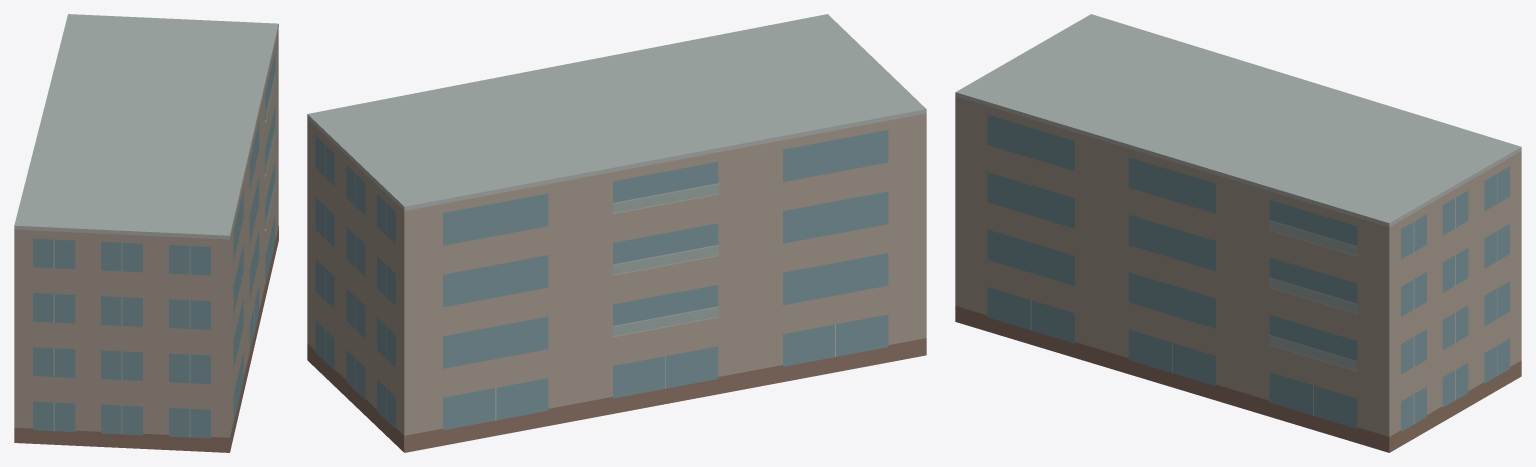
The model's file is survey-upis-32739322.glb.
The picture shows the model from 3 angles, left to right: view 1: azimuth 30°, elevation 25°; view 2: azimuth 150°, elevation 25°; view 3: azimuth 270°, elevation 25°; orthographic projection. The views are drawn at different scales.
Parts seen in each view (by area): view 1: survey-upis-32739322.tmp; view 2: survey-upis-32739322.tmp; view 3: survey-upis-32739322.tmp.
Part boxes in pixels (<box>): survey-upis-32739322.tmp: <box>14,14,278,452</box>; survey-upis-32739322.tmp: <box>307,14,926,452</box>; survey-upis-32739322.tmp: <box>955,14,1521,452</box>.
Size of the model in its own units: 27.17 by 13.9 by 31.05.
